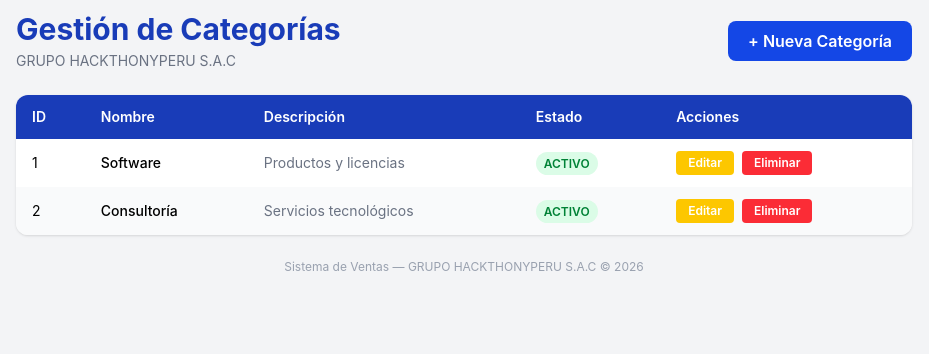
Test: Componente Categorias - Pruebas Unitarias › Debe permitir eliminar una categoría tras confirmar
Expected: the text "Software" is shown, [85, 139, 248, 187]
Click the button "Eliminar" in the row of "Software" at (777, 163), box [742, 151, 812, 175]
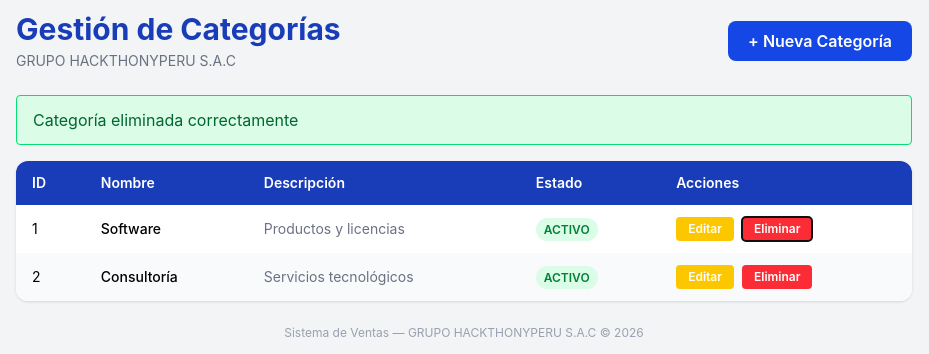
Expected: the text "Categoría eliminada correctamente" is shown, [16, 95, 912, 145]
